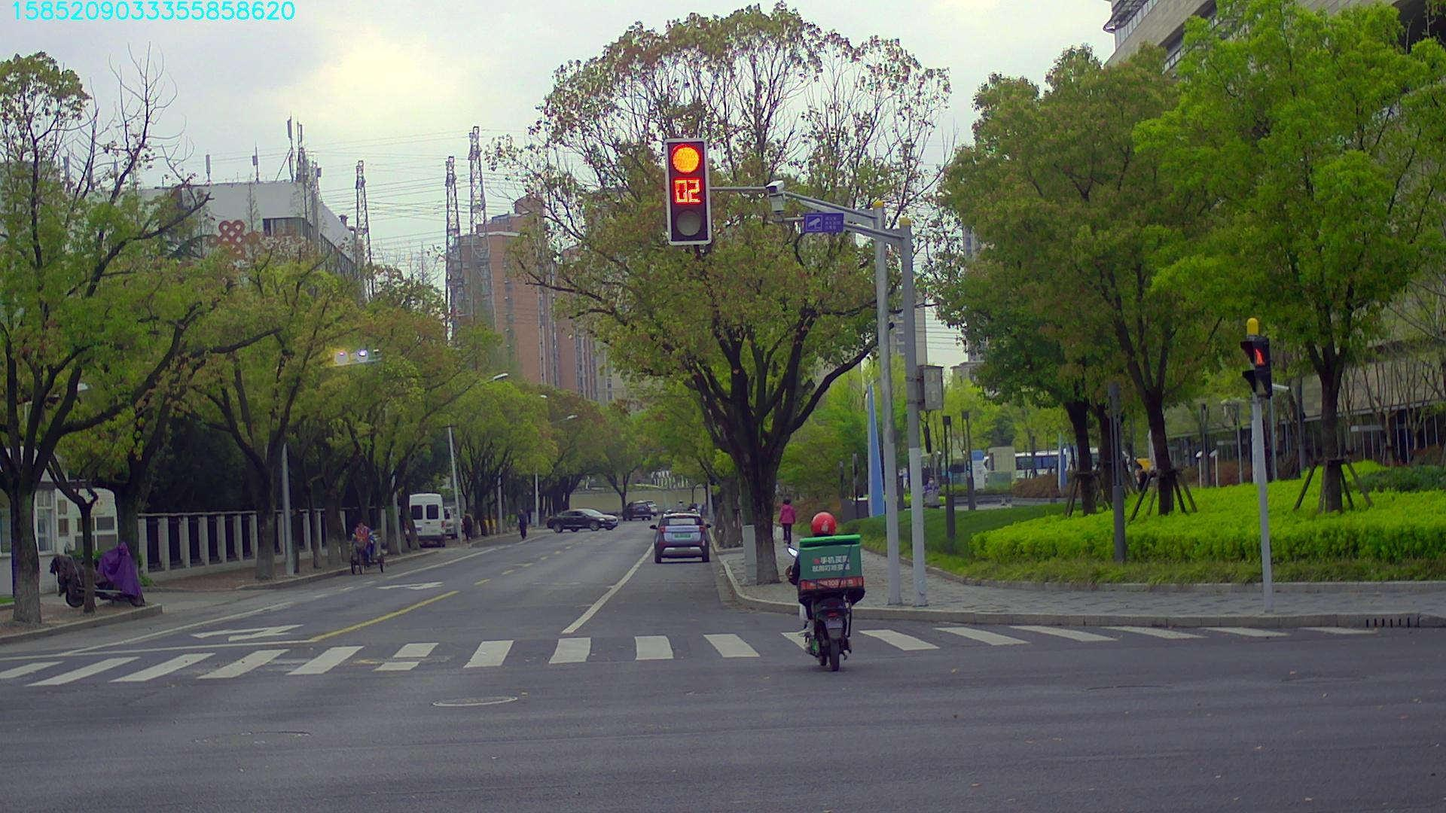red: (665, 140, 709, 242)
